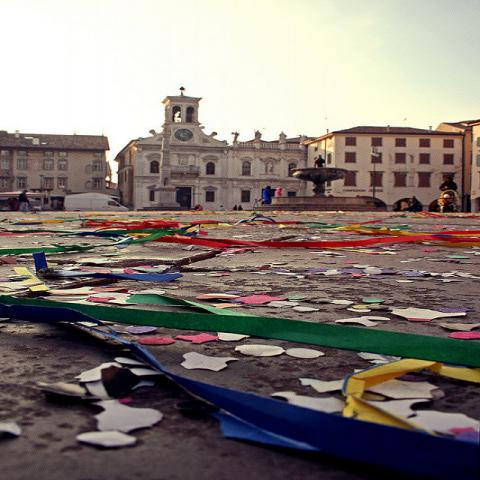truck: (63, 195, 129, 211)
